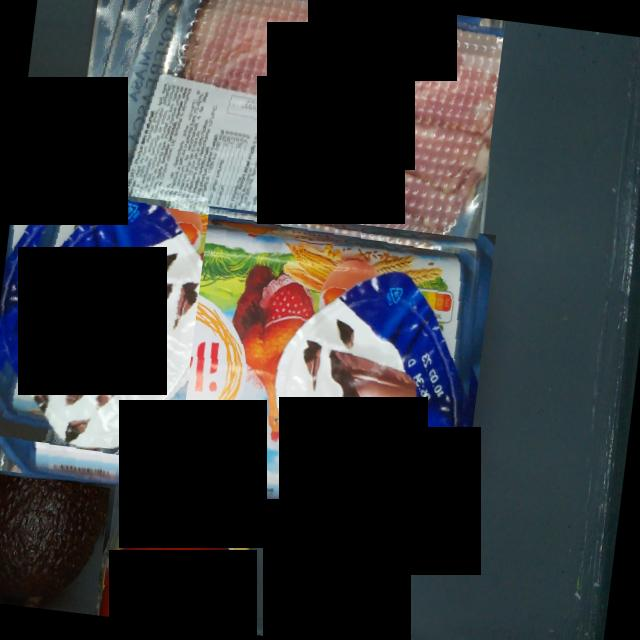avocado: (0, 472, 110, 614)
bacon: (71, 0, 505, 238)
cheese: (103, 474, 259, 602)
eggs: (0, 175, 495, 526)
tomatoes: (99, 512, 261, 634)
yogurt: (0, 170, 210, 457)
